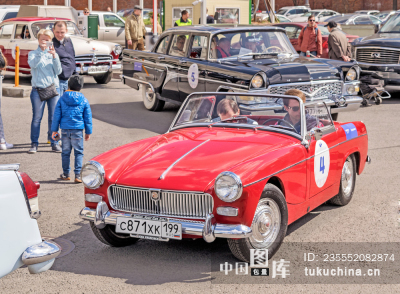car: (93, 82, 384, 243)
person: (31, 28, 62, 153), (63, 75, 88, 189)
